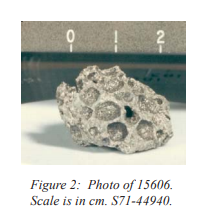Basalt: (31, 63, 173, 140)
